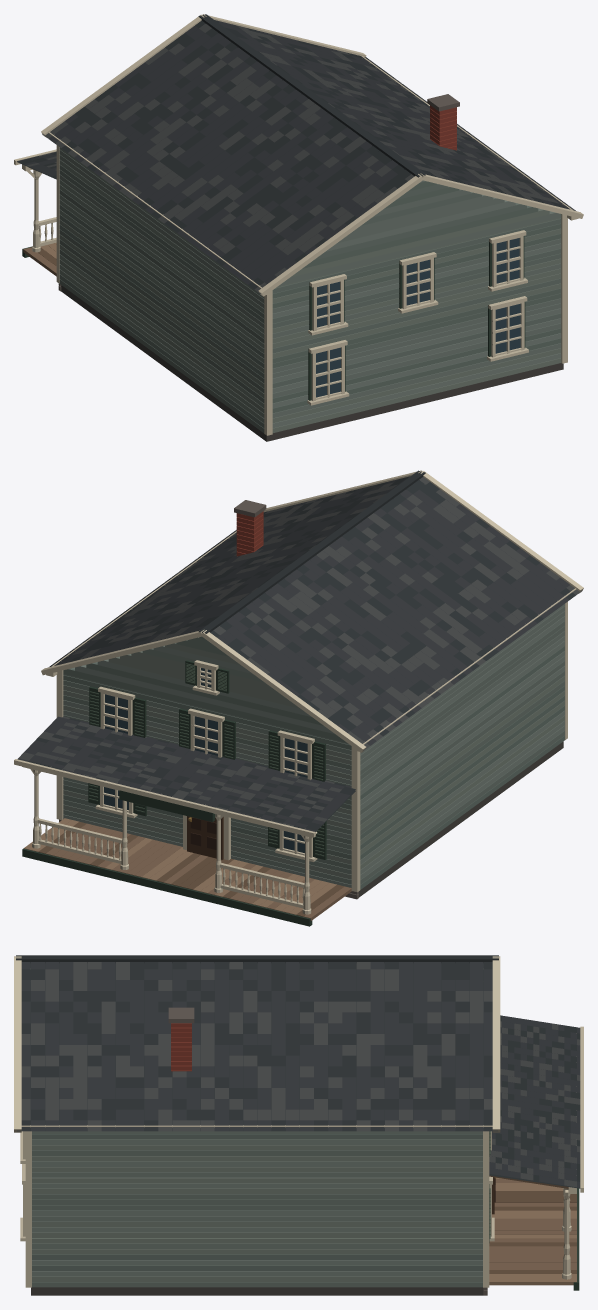
Rendered from hargrove_boarding_house.glb.
3 renders of one model, top to bottom at view 1: azimuth 30°, elevation 25°; view 2: azimuth 150°, elevation 25°; view 3: azimuth 270°, elevation 25°, orthographic. The views are drawn at different scales.
Parts seen in each view (by area): view 1: hargrove_boarding_house; view 2: hargrove_boarding_house; view 3: hargrove_boarding_house.
Part boxes in pixels (x1,y1,x2,y2): hargrove_boarding_house: [14, 14, 583, 441]; hargrove_boarding_house: [14, 470, 583, 926]; hargrove_boarding_house: [14, 955, 583, 1295].
Bounding box in the file's own units: 10.76 × 7.51 × 14.98.
